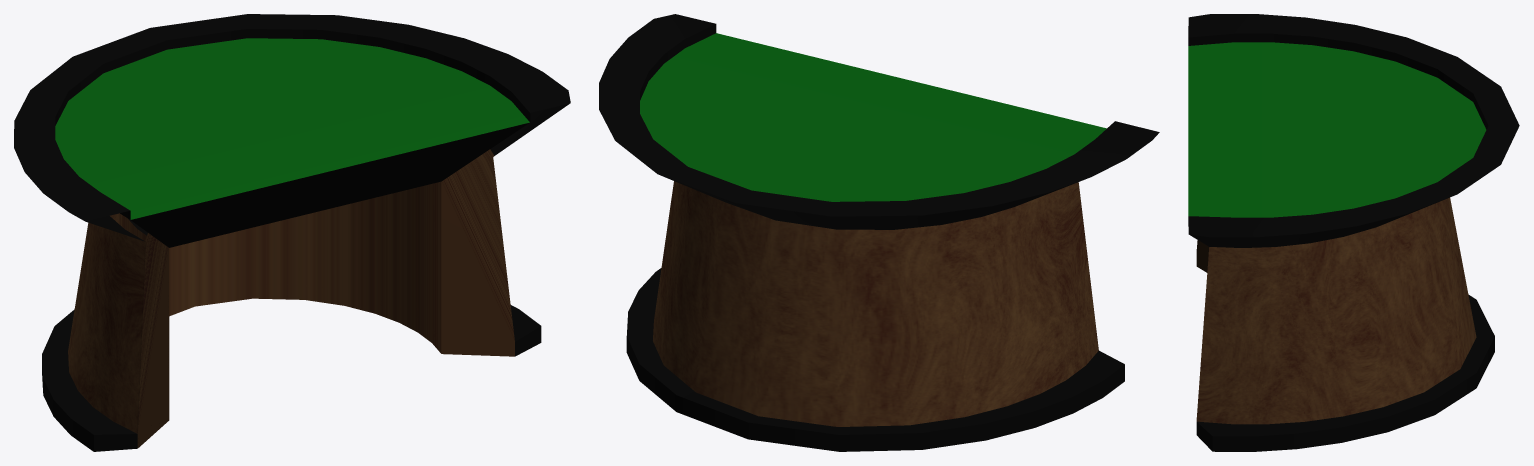
Rendered from BlackJackTable.fbx.
3 renders of one model, left to right at view 1: azimuth 30°, elevation 25°; view 2: azimuth 150°, elevation 25°; view 3: azimuth 270°, elevation 25°, orthographic. The views are drawn at different scales.
Parts seen in each view (by area): view 1: Cylinder; view 2: Cylinder; view 3: Cylinder.
Part boxes in pixels (box(x1,y1,x2,y2)): Cylinder: box(14, 14, 570, 451); Cylinder: box(599, 14, 1159, 451); Cylinder: box(1188, 14, 1519, 451).
Bounding box in the file's own units: 257 × 409 × 193.
3 materials, 1 textured.
